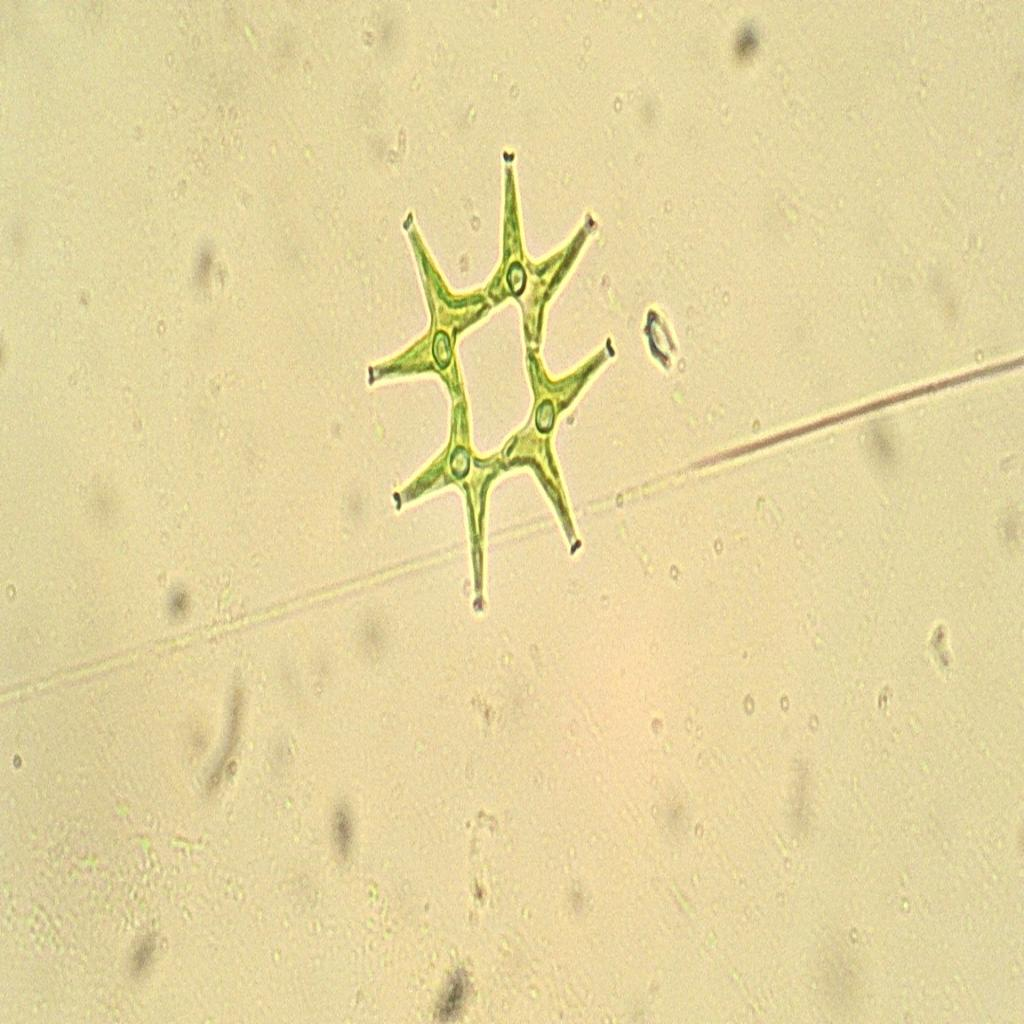Pediastrum_75O: (356, 134, 624, 627)
